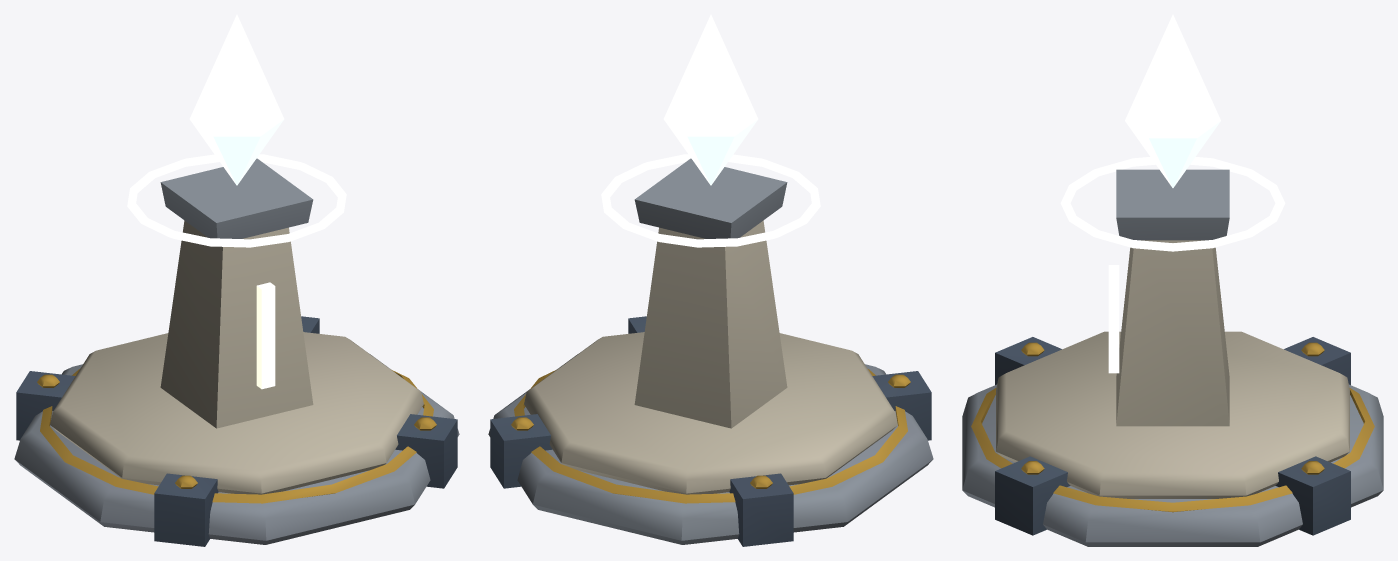
File: alliance_2.glb
3 renders of one model, left to right at view 1: azimuth 30°, elevation 25°; view 2: azimuth 150°, elevation 25°; view 3: azimuth 270°, elevation 25°, orthographic.
Parts seen in each view (by area): view 1: alliance_2_peint, Cristal_lueur, Givre, Rune; view 2: alliance_2_peint, Cristal_lueur, Givre; view 3: alliance_2_peint, Cristal_lueur, Givre, Rune.
Part boxes in pixels (x1,y1,x2,y2): alliance_2_peint: [14, 158, 459, 546]; Cristal_lueur: [189, 14, 284, 185]; Givre: [127, 154, 346, 247]; Rune: [256, 282, 275, 389]; alliance_2_peint: [488, 158, 933, 546]; Cristal_lueur: [663, 14, 758, 185]; Givre: [601, 154, 820, 247]; alliance_2_peint: [962, 169, 1383, 546]; Cristal_lueur: [1125, 14, 1220, 187]; Givre: [1060, 157, 1285, 251]; Rune: [1108, 265, 1119, 373].
Size of the model in its own units: 0.7869 by 0.92 by 0.7869.
